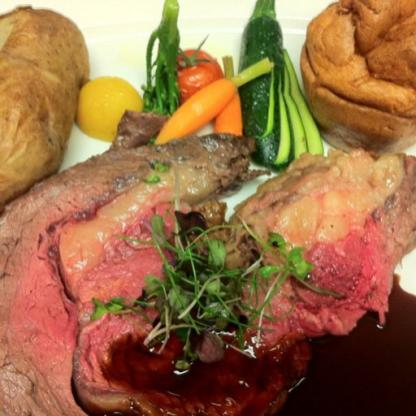beef: (0, 129, 243, 415), (226, 142, 415, 338)
